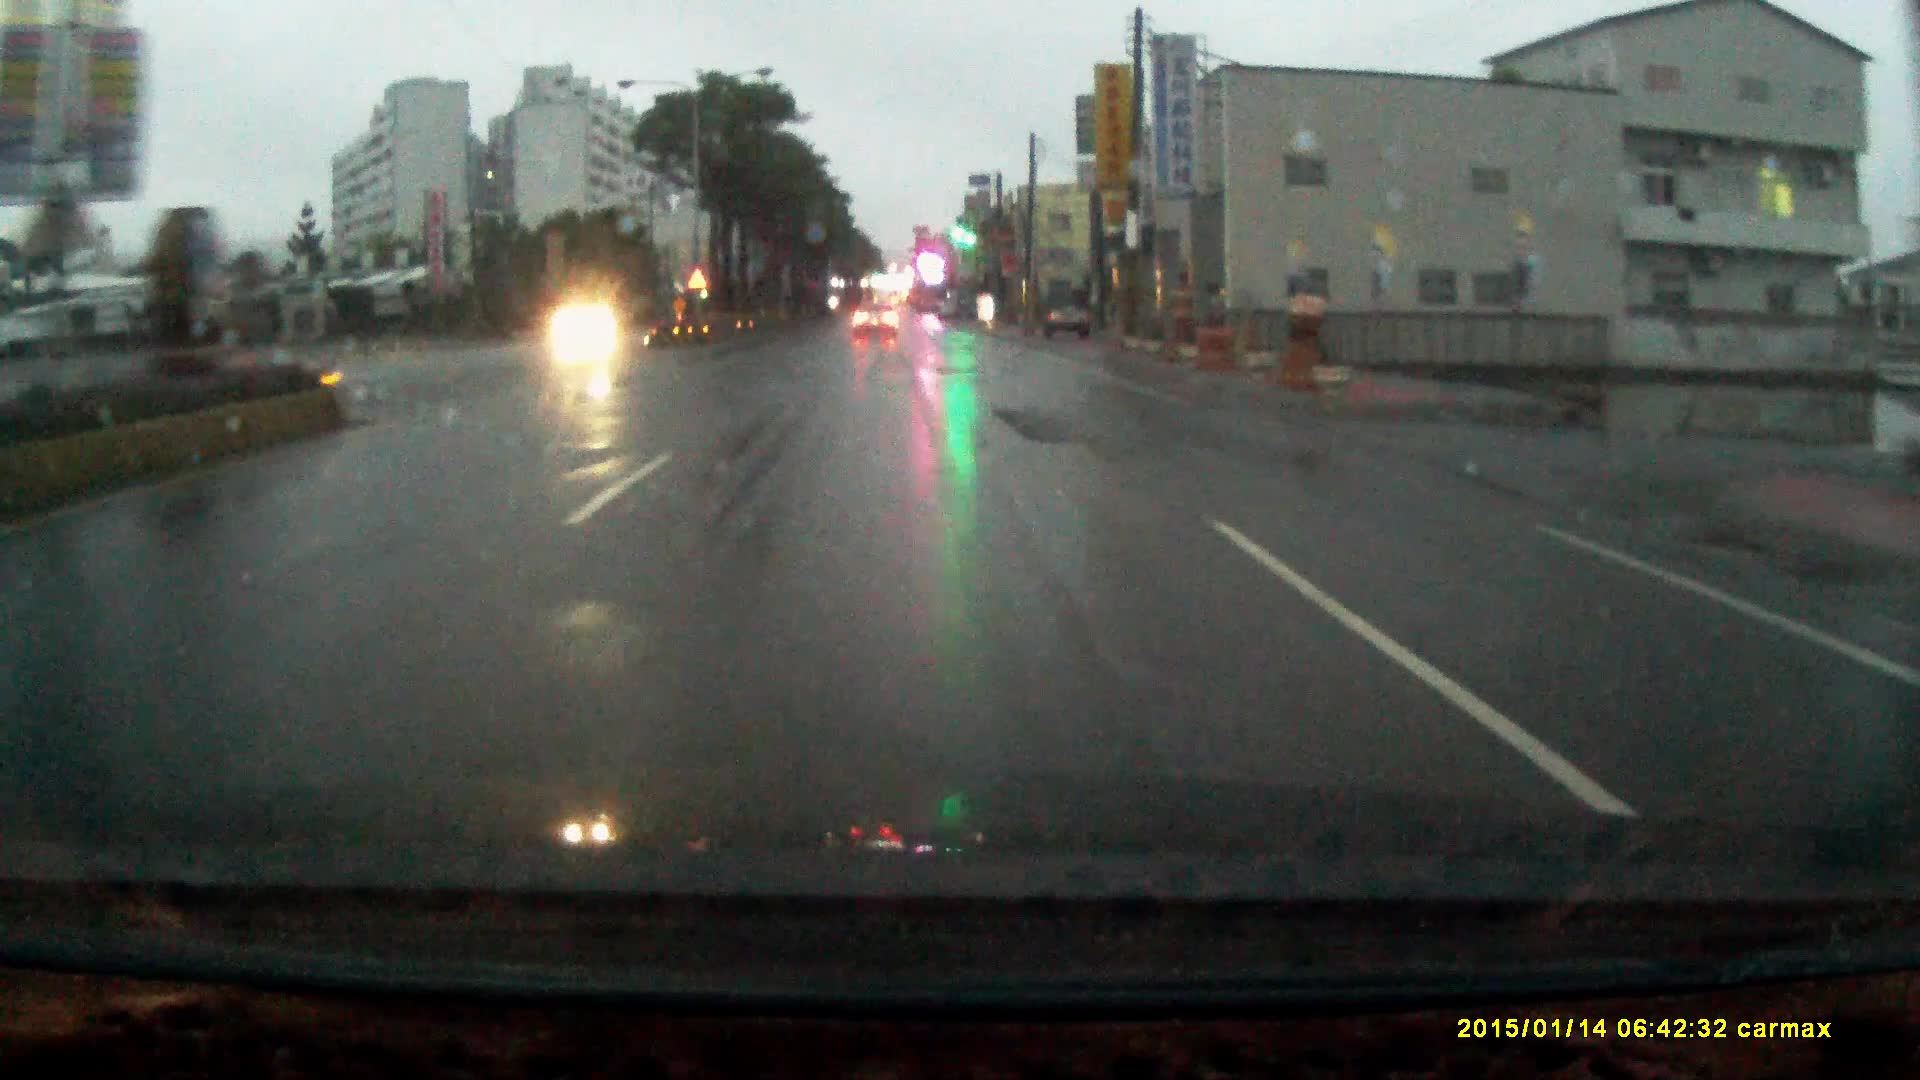vehicle: (1046, 287, 1097, 342), (851, 302, 899, 338)
